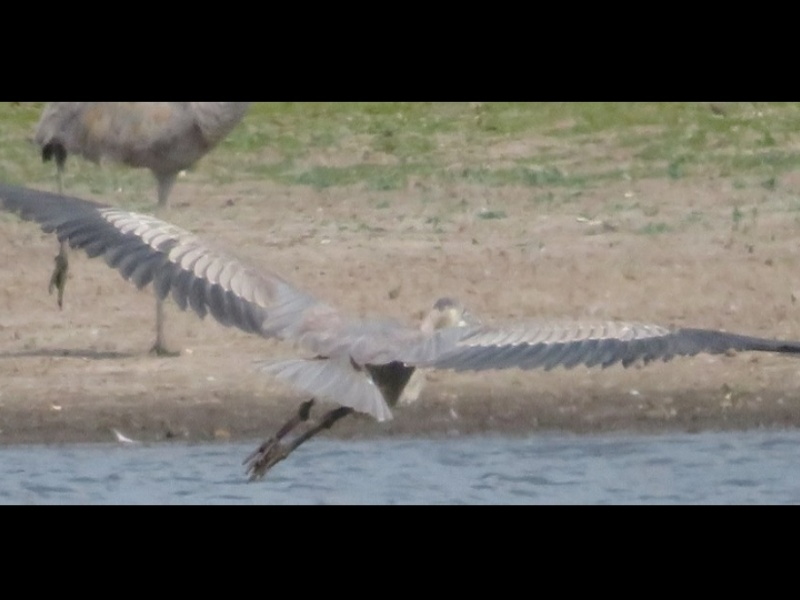heron: (1, 169, 791, 486), (33, 103, 256, 366)
